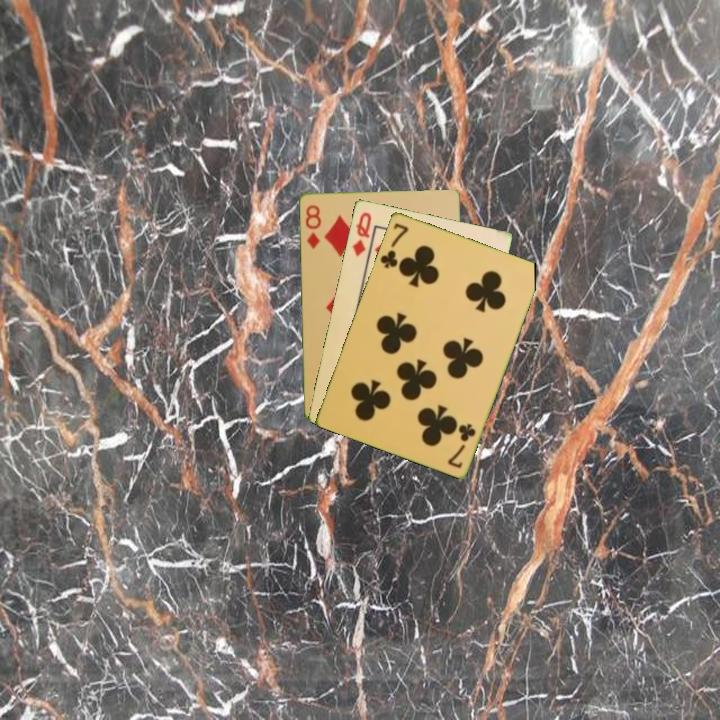7c: (376, 219, 411, 271), (444, 420, 478, 471)
8d: (302, 201, 323, 251)
Qd: (349, 208, 374, 259)
